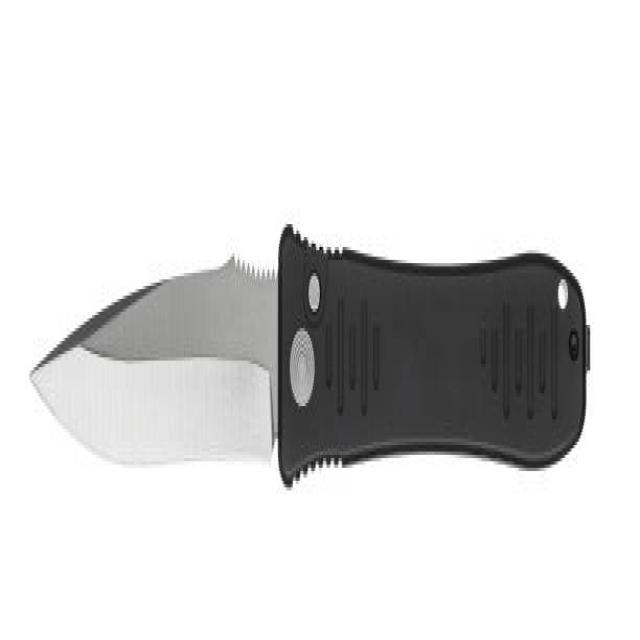knife: (30, 230, 598, 502)
